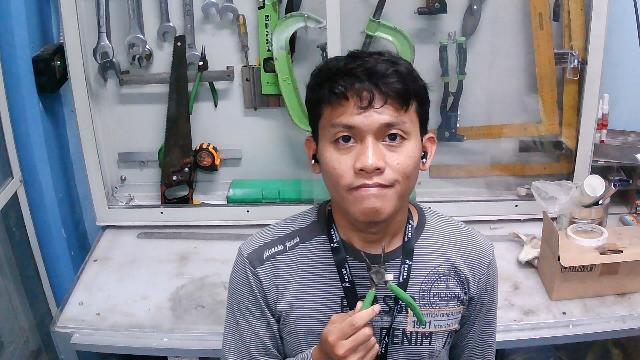tang_cucut_lancip_1: (347, 241, 435, 337)
